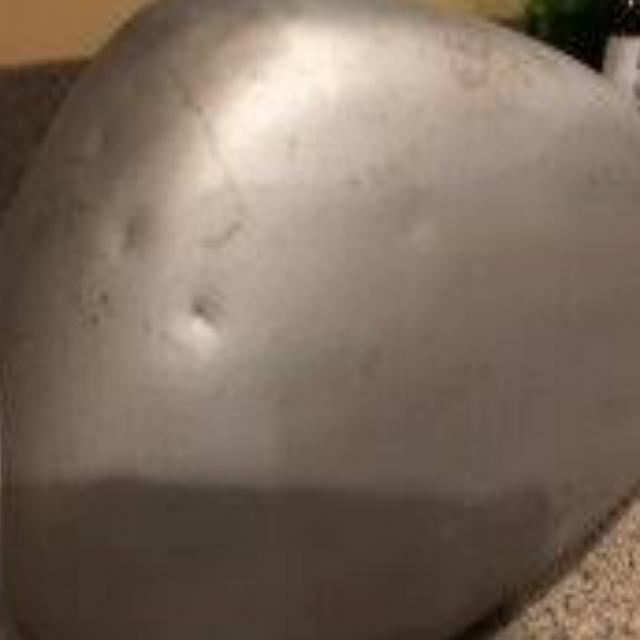dents: (167, 275, 252, 371), (94, 200, 170, 288), (63, 108, 128, 183), (387, 200, 443, 257)
